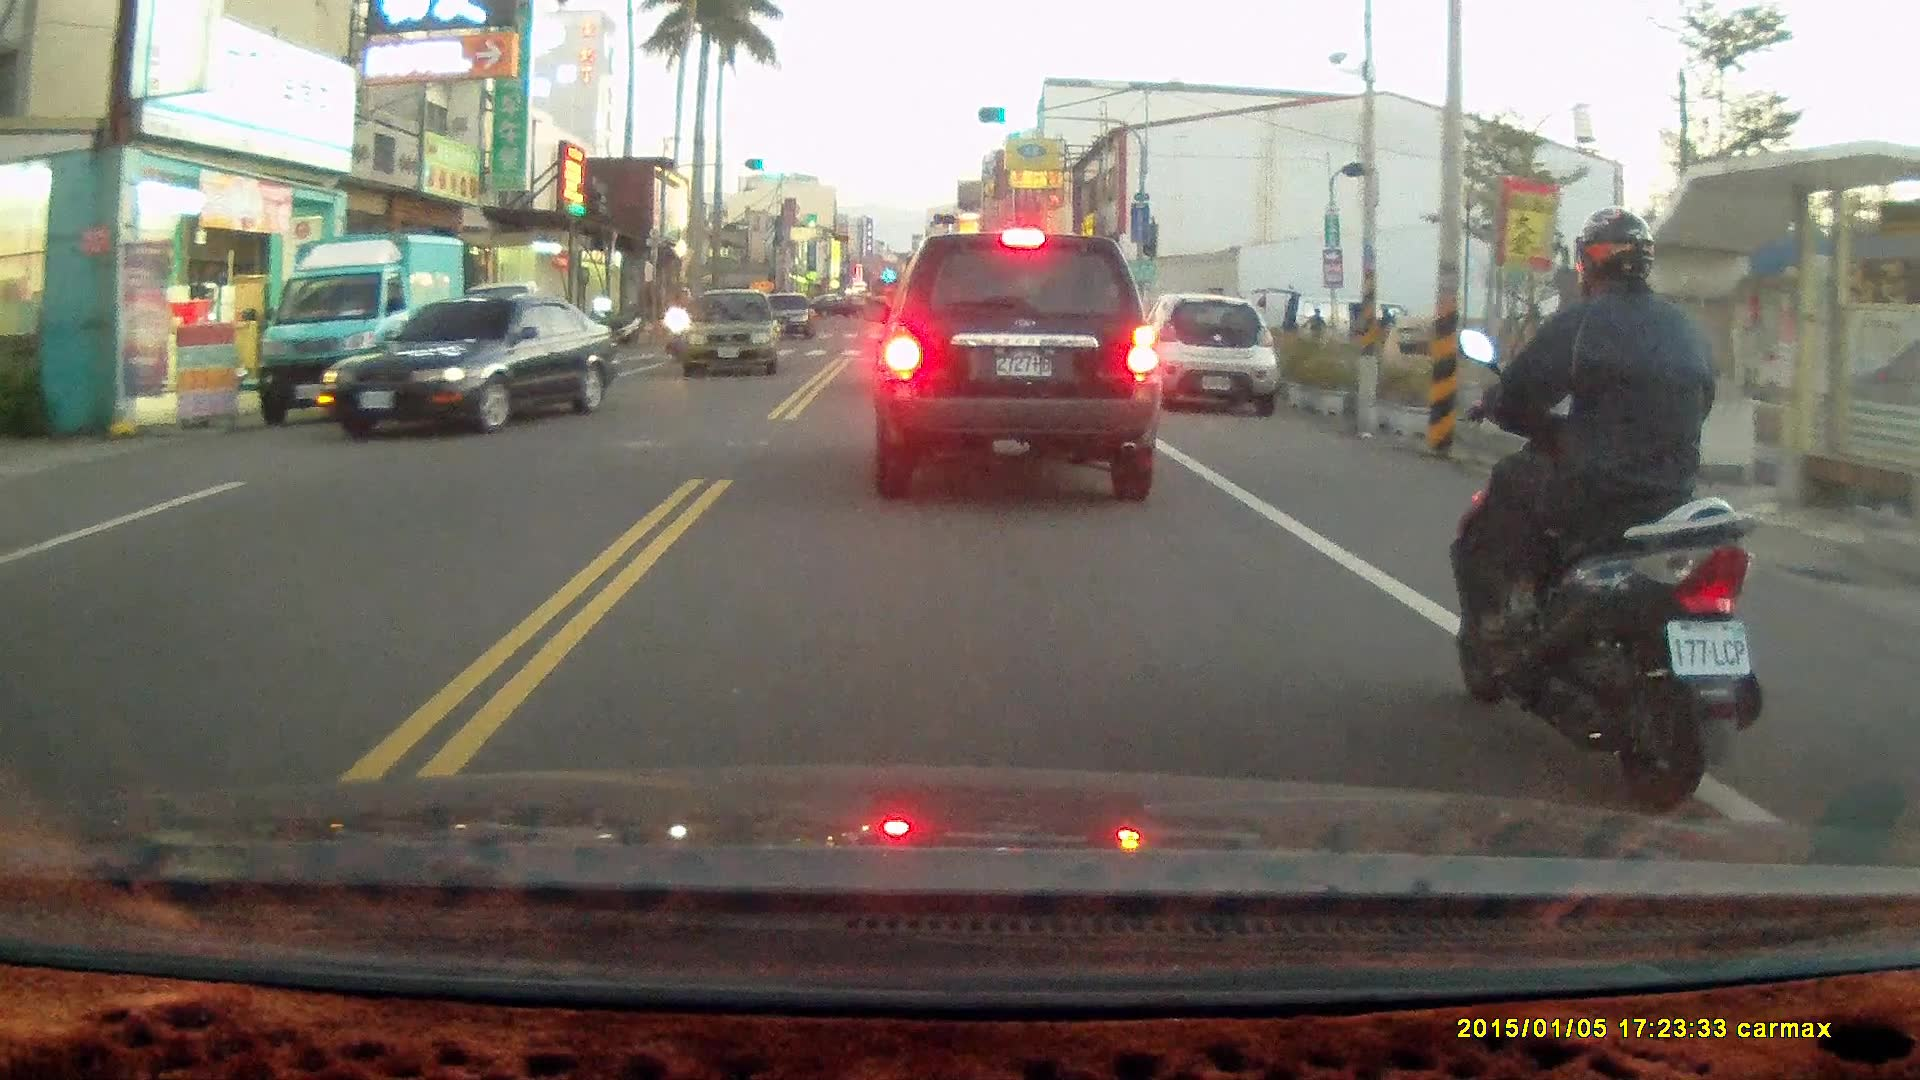rider: (1447, 199, 1761, 805), (661, 283, 699, 364)
vehicle: (871, 228, 1159, 502), (255, 231, 472, 430), (320, 291, 620, 433), (1141, 291, 1280, 417), (677, 287, 785, 380)
